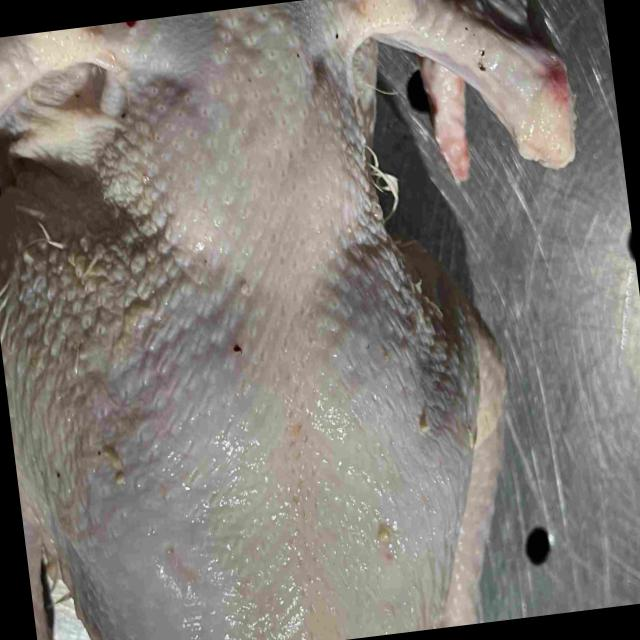back: (64, 71, 398, 640)
leg: (393, 261, 509, 632), (0, 271, 54, 640)
neck: (180, 1, 304, 64)
wing: (293, 0, 582, 161)
